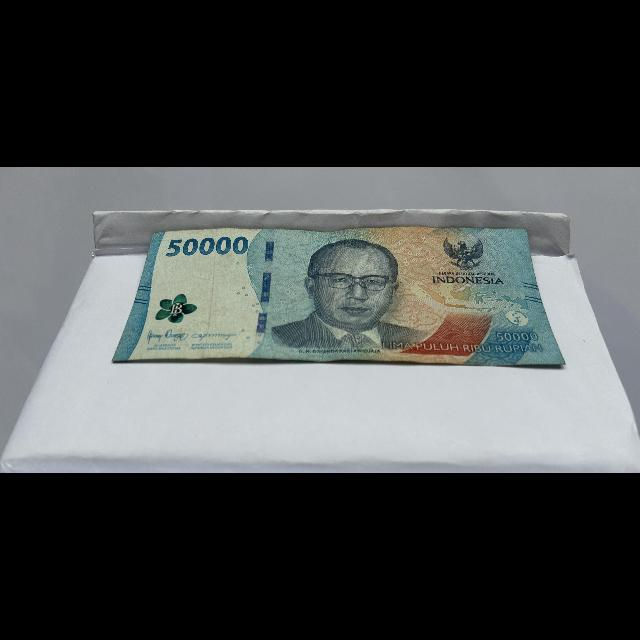Asli-50k: (107, 221, 570, 370)
Tinta-Asli-50k: (153, 293, 202, 325)
